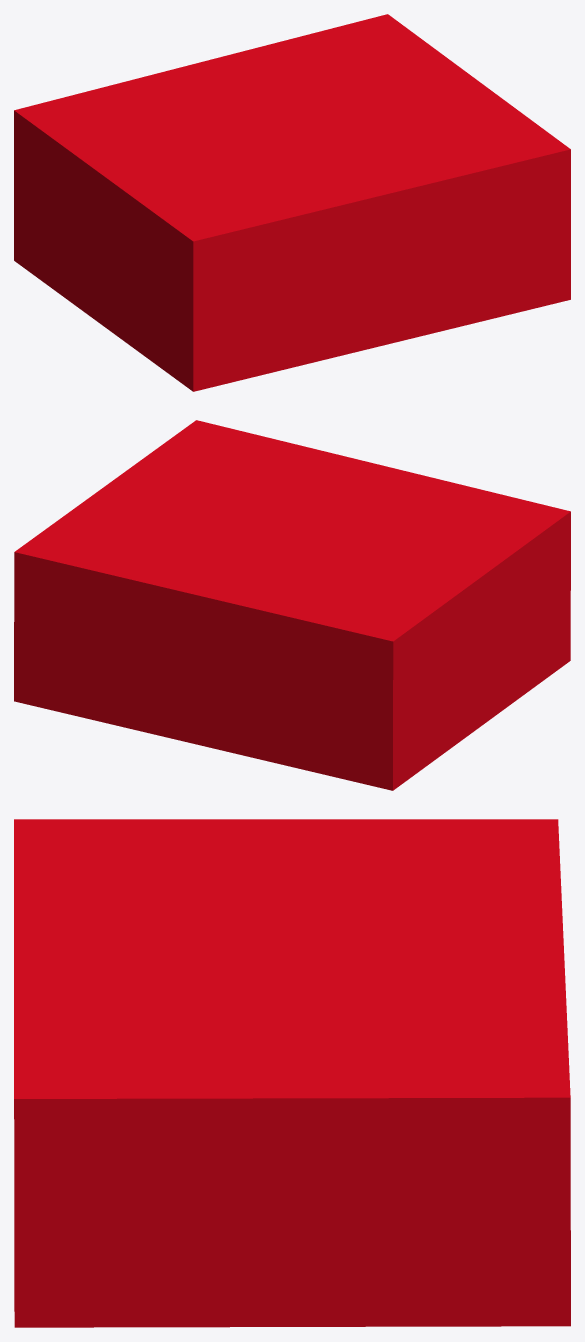
The model's file is Puzzle2Cube.fbx.
3 views of the same model, one above another, from view 1: azimuth 30°, elevation 25°; view 2: azimuth 150°, elevation 25°; view 3: azimuth 270°, elevation 25° (orthographic). The views are drawn at different scales.
Visible parts, largest first — view 1: CubeBlock; view 2: CubeBlock; view 3: CubeBlock.
Boxes of the visible parts, left/top/right/bottom form: CubeBlock: left=14, top=14, right=570, bottom=391; CubeBlock: left=14, top=420, right=570, bottom=790; CubeBlock: left=14, top=819, right=570, bottom=1327.
Size of the model in its own units: 60.11 by 23.02 by 50.51.
